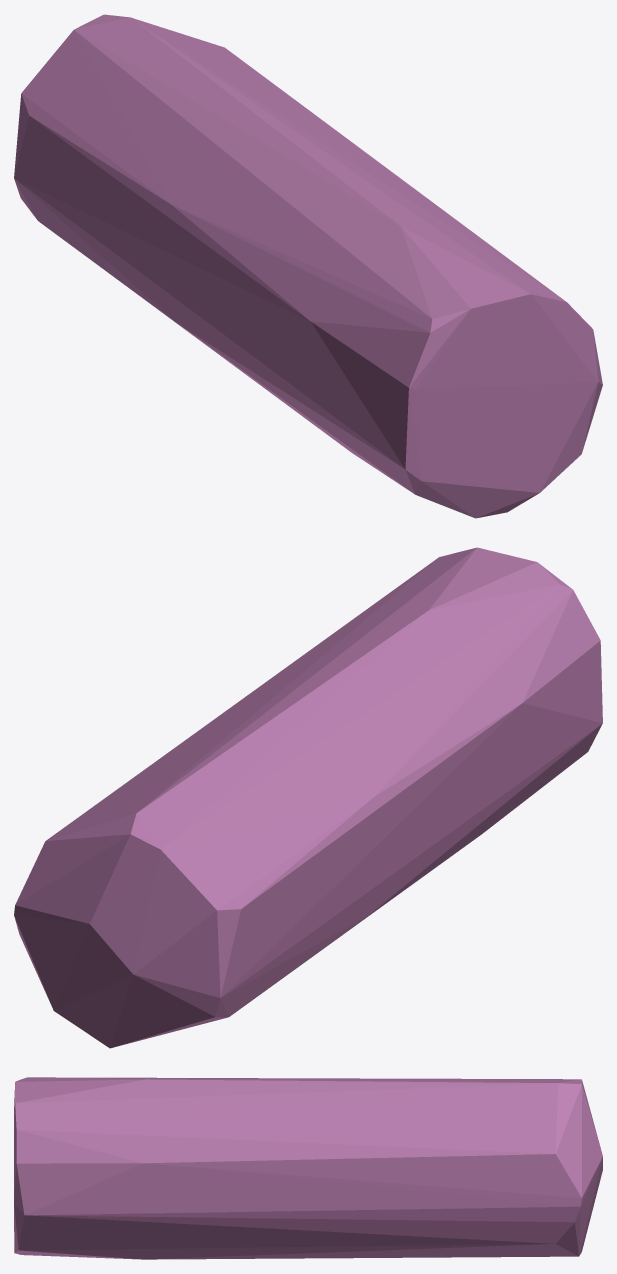
File: consumable_spray_solvent_a01.glb
3 views of the same model, one above another, from view 1: azimuth 30°, elevation 25°; view 2: azimuth 150°, elevation 25°; view 3: azimuth 270°, elevation 25° (orthographic). The views are drawn at different scales.
Parts seen in each view (by area): view 1: geometry_0; view 2: geometry_0; view 3: geometry_0.
Part boxes in pixels (bbox=[...]): geometry_0: bbox=[14, 14, 602, 518]; geometry_0: bbox=[14, 547, 602, 1048]; geometry_0: bbox=[14, 1077, 602, 1259].
Size of the model in its own units: 0.1457 by 0.1524 by 0.48.
